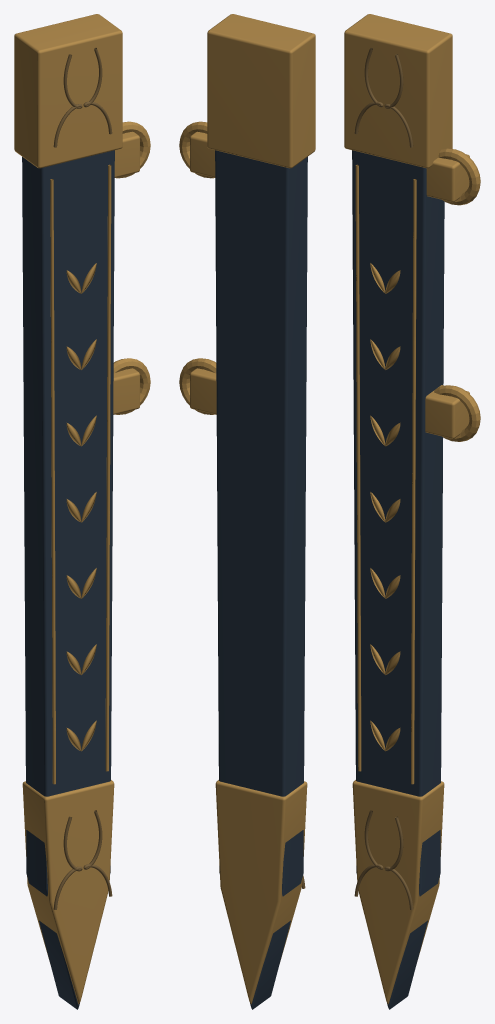
The model's file is EDH_Sariwa_Scabbard.glb.
3 views of the same model, side by side, from view 1: azimuth 30°, elevation 25°; view 2: azimuth 150°, elevation 25°; view 3: azimuth 330°, elevation 25° (orthographic).
Parts seen in each view (by area): view 1: Scabbard | leather shell, Scabbard | bronze mouth, Scabbard | bronze chape, Scabbard | edge piping.001, Scabbard | edge piping, Scabbard | suspension tab.001, Scabbard | suspension tab, Scabbard | belt suspension ring.001, Scabbard | belt suspension ring, Scabbard | chased scroll, Scabbard | chased scroll.002, Scabbard | chased scroll.001 (+1 smaller); view 2: Scabbard | leather shell, Scabbard | bronze mouth, Scabbard | bronze chape, Scabbard | suspension tab.001, Scabbard | suspension tab, Scabbard | belt suspension ring.001, Scabbard | belt suspension ring; view 3: Scabbard | leather shell, Scabbard | bronze mouth, Scabbard | bronze chape, Scabbard | edge piping, Scabbard | edge piping.001, Scabbard | suspension tab.001, Scabbard | suspension tab, Scabbard | belt suspension ring.001, Scabbard | belt suspension ring, Scabbard | chased scroll.001, Scabbard | chased scroll.003, Scabbard | chased scroll (+1 smaller).
Part boxes in pixels (x1,y1,x2,y2): Scabbard | leather shell: [22, 150, 114, 1009]; Scabbard | bronze mouth: [14, 14, 122, 168]; Scabbard | bronze chape: [22, 780, 114, 1003]; Scabbard | edge piping.001: [105, 164, 111, 771]; Scabbard | edge piping: [50, 179, 55, 784]; Scabbard | suspension tab.001: [113, 368, 139, 414]; Scabbard | suspension tab: [114, 131, 139, 177]; Scabbard | belt suspension ring.001: [113, 358, 150, 414]; Scabbard | belt suspension ring: [115, 121, 150, 178]; Scabbard | chased scroll: [53, 54, 82, 147]; Scabbard | chased scroll.002: [53, 816, 82, 909]; Scabbard | chased scroll.001: [83, 48, 112, 134]; Scabbard | leather shell: [215, 150, 307, 1009]; Scabbard | bronze mouth: [207, 14, 315, 168]; Scabbard | bronze chape: [215, 780, 307, 1003]; Scabbard | suspension tab.001: [190, 368, 216, 414]; Scabbard | suspension tab: [190, 131, 215, 177]; Scabbard | belt suspension ring.001: [179, 358, 216, 414]; Scabbard | belt suspension ring: [179, 121, 214, 178]; Scabbard | leather shell: [352, 150, 444, 1009]; Scabbard | bronze mouth: [344, 14, 452, 168]; Scabbard | bronze chape: [352, 780, 444, 1003]; Scabbard | edge piping: [355, 164, 361, 771]; Scabbard | edge piping.001: [411, 179, 416, 784]; Scabbard | suspension tab.001: [425, 385, 469, 438]; Scabbard | suspension tab: [426, 154, 469, 202]; Scabbard | belt suspension ring.001: [434, 385, 480, 441]; Scabbard | belt suspension ring: [438, 148, 480, 205]; Scabbard | chased scroll.001: [384, 54, 413, 147]; Scabbard | chased scroll.003: [384, 816, 413, 909]; Scabbard | chased scroll: [354, 48, 383, 134].
Bounding box in the file's own units: 0.099 × 0.7389 × 0.0387.
